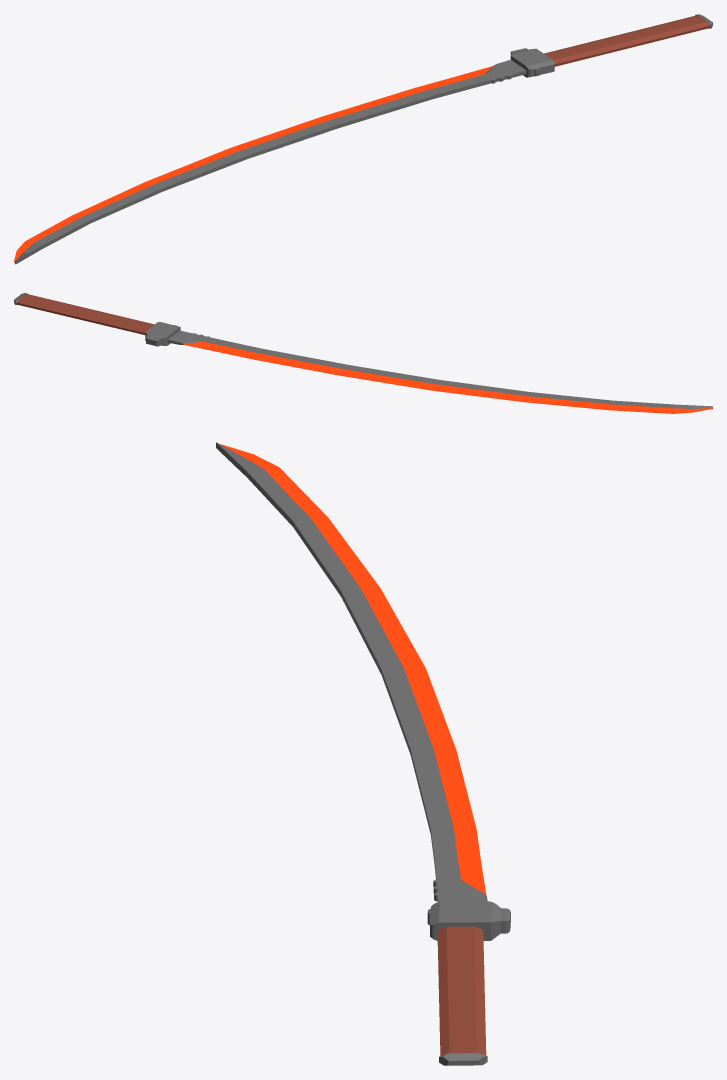
Rendered from sword.glb.
The picture shows the model from 3 angles, top to bottom: view 1: azimuth 30°, elevation 25°; view 2: azimuth 150°, elevation 25°; view 3: azimuth 270°, elevation 25°; orthographic projection. The views are drawn at different scales.
Visible parts, largest first — view 1: Cube; view 2: Cube; view 3: Cube.
Part boxes in pixels (left/top/right/bottom): Cube: left=14, top=14, right=712, bottom=264; Cube: left=14, top=293, right=712, bottom=413; Cube: left=216, top=442, right=510, bottom=1065.
Bounding box in the file's own units: 2.6 × 0.0364 × 0.5243.
